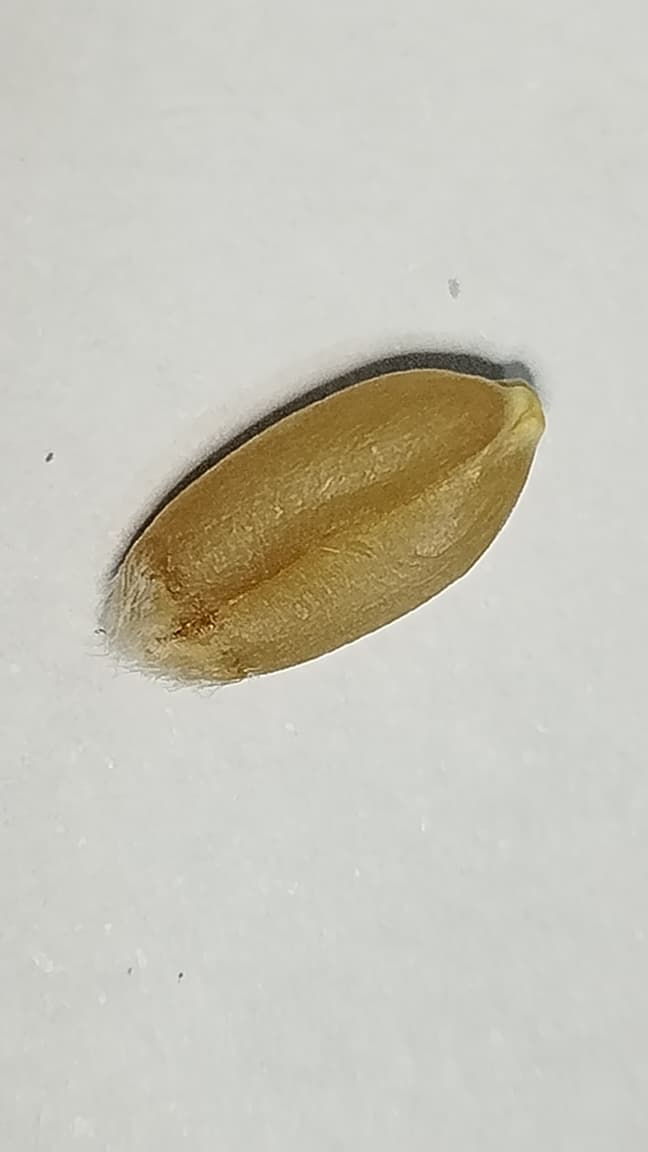healthy: (101, 352, 543, 686)
